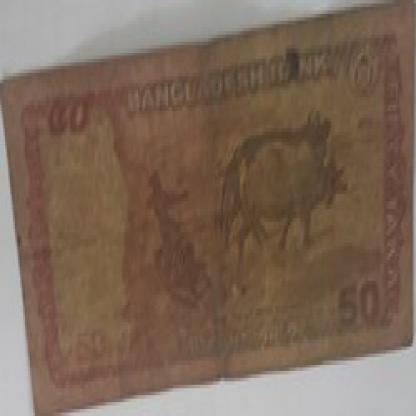Fifty taka: (333, 270, 394, 340), (46, 87, 96, 166)
